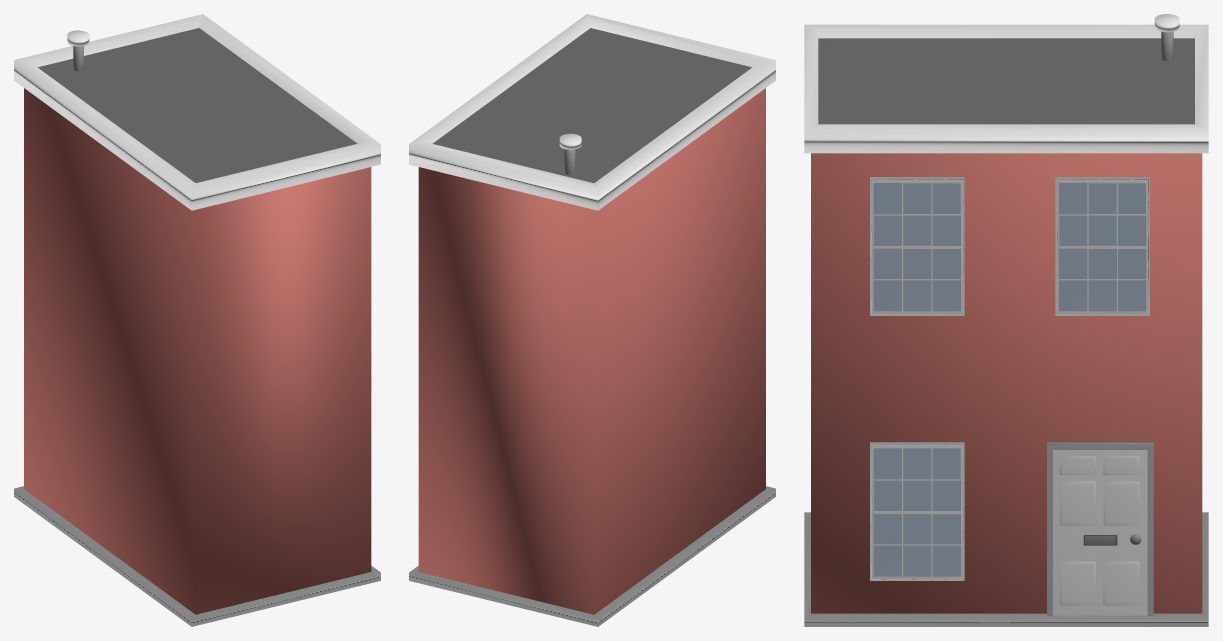
The model's file is townhouse.fbx.
3 views of the same model, side by side, from view 1: azimuth 30°, elevation 25°; view 2: azimuth 150°, elevation 25°; view 3: azimuth 270°, elevation 25° (orthographic). The views are drawn at different scales.
Visible parts, largest first — view 1: Cube, Cube.003, Cube.001, Cube.002; view 2: Cube, Cube.003, Cube.001, Cube.002; view 3: Cube, Cube.003, Cube.001, Cube.014, Cube.011, Cube.010, Cube.009, Cube.012, Cube.013, Cube.007, Cube.005, Cube.002 (+1 smaller).
Boxes of the visible parts, box(x1,y1,x2,y2) form: Cube: box(24, 88, 371, 614); Cube.003: box(38, 28, 357, 182); Cube.001: box(14, 14, 380, 210); Cube.002: box(14, 486, 380, 626); Cube: box(418, 88, 765, 614); Cube.003: box(432, 28, 751, 182); Cube.001: box(409, 14, 775, 210); Cube.002: box(409, 486, 775, 626); Cube: box(811, 153, 1202, 613); Cube.003: box(818, 38, 1194, 124); Cube.001: box(804, 24, 1208, 153); Cube.014: box(1055, 177, 1149, 315); Cube.011: box(870, 177, 964, 315); Cube.010: box(870, 442, 964, 580); Cube.009: box(873, 448, 960, 576); Cube.012: box(873, 183, 960, 311); Cube.013: box(1059, 183, 1146, 311); Cube.007: box(1053, 450, 1147, 615); Cube.005: box(1059, 456, 1139, 605); Cube.002: box(804, 512, 1208, 626).
Bounding box in the file's own units: 165 × 388 × 269.
